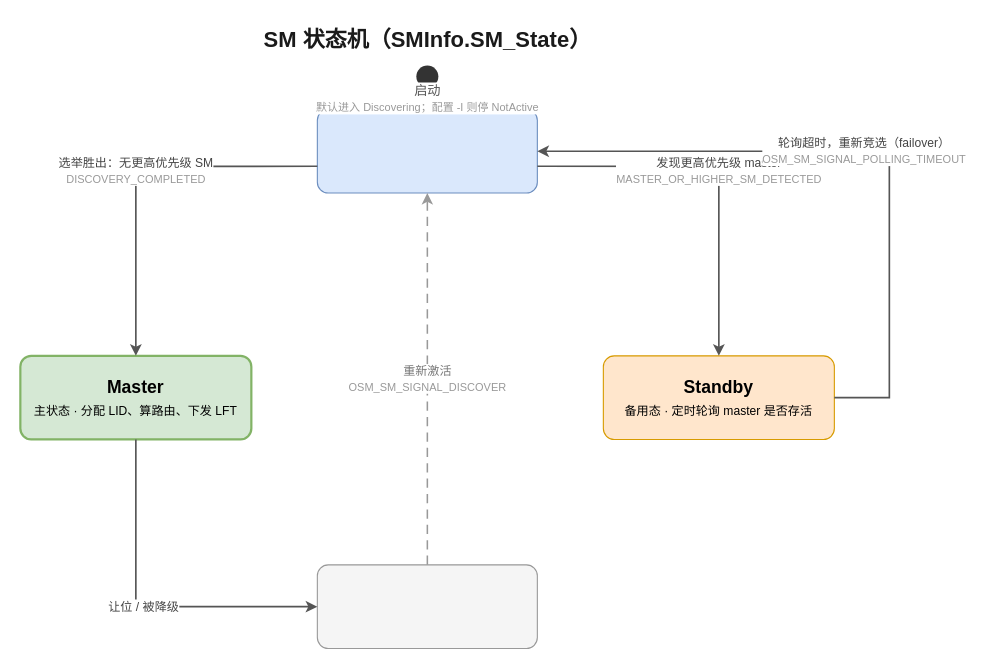
Image size: 985x668. Some labels were removed from this diagram. The centre of each missing label's shape, as x and y in pixels:
"Discovering 发现态 · 扫描拓扑、参与选举" goes at point 426,150.
"NotActive 未激活 · 不参与选举" goes at point 426,606.
